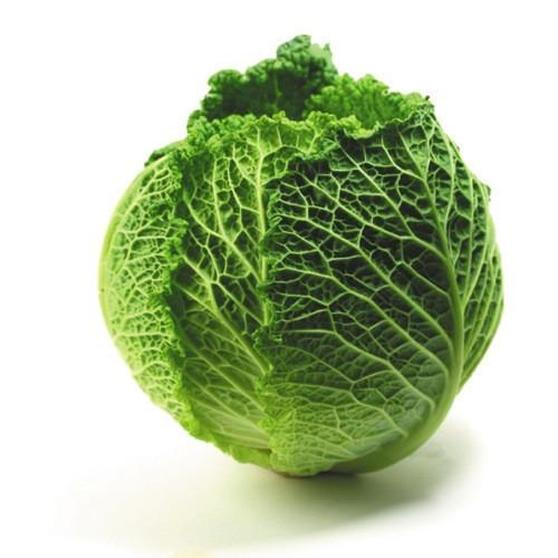cabbage: (96, 44, 505, 476)
